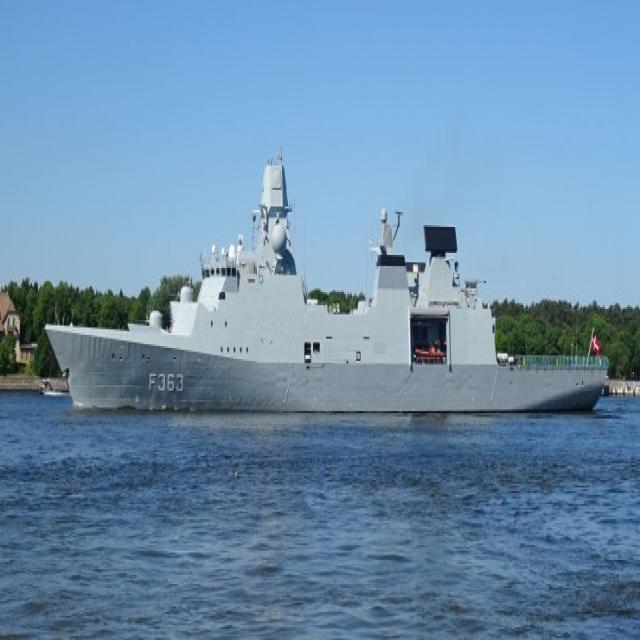Fragata: (38, 150, 614, 427)
